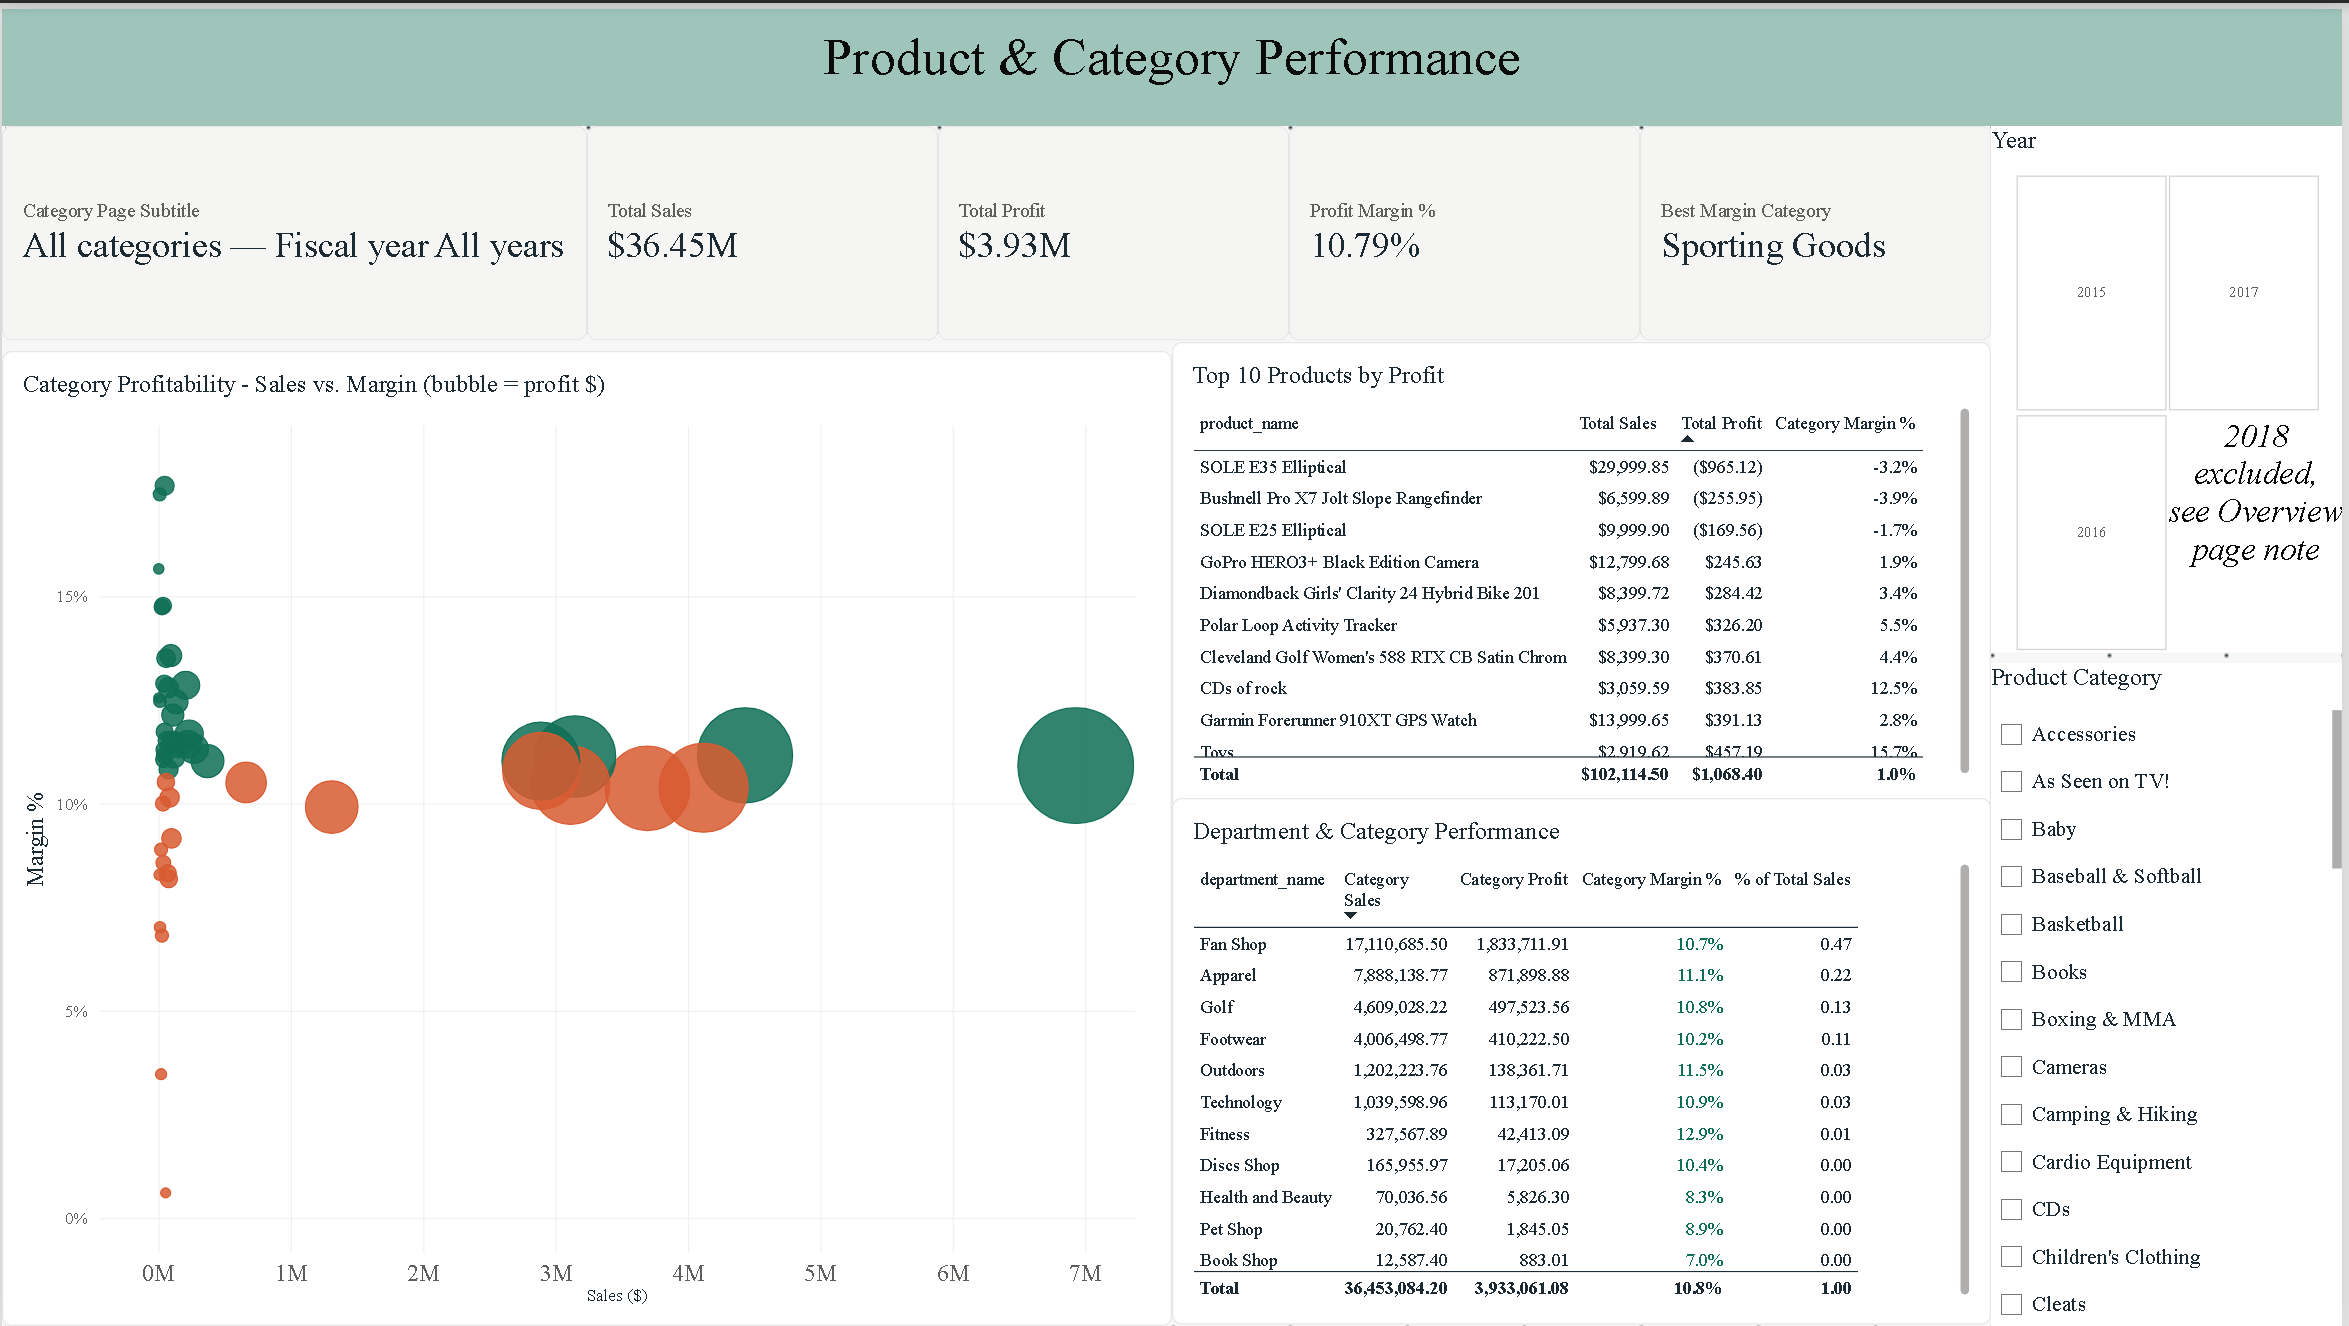

Layout of this report page (visuals, bound fields, positions):
{"tool":"powerbi","page":{"name":"Product & Category","canvas":[1920,1080],"ordinal":2},"visuals":[{"type":"textbox","box":[0,0,1920,96],"z":0},{"type":"cardVisual","fields":{"Data":["_Measures.Category Page Subtitle"]},"box":[0,96,480,176],"z":1},{"type":"cardVisual","fields":{"Data":["_Measures.Total Sales"]},"box":[480,96,288,176],"z":2},{"type":"cardVisual","fields":{"Data":["_Measures.Total Profit"]},"box":[768,96,288,176],"z":3},{"type":"cardVisual","fields":{"Data":["_Measures.Profit Margin %"]},"box":[1056,96,288,176],"z":4},{"type":"cardVisual","fields":{"Data":["_Measures.Best Margin Category"]},"box":[1344,96,288,176],"z":5},{"type":"scatterChart","title":"Category Profitability - Sales vs. Margin (bubble = profit $)","fields":{"Series":["gold dim_product.category_name"],"Size":["_Measures.Category Profit"],"X":["_Measures.Category Sales"],"Y":["_Measures.Category Margin %"]},"box":[0,280,960,800],"z":6},{"type":"tableEx","title":"Top 10 Products by Profit","fields":{"Values":["gold dim_product.product_name","_Measures.Total Sales","_Measures.Total Profit","_Measures.Category Margin %"]},"box":[960,272,672,384],"z":7},{"type":"tableEx","title":"Department & Category Performance","fields":{"Values":["gold dim_product.department_name","_Measures.Category Sales","_Measures.Category Profit","_Measures.Category Margin %","_Measures.% of Total Sales"]},"box":[960,648,672,432],"z":8},{"type":"slicer","title":"Year","fields":{"Values":["gold dim_date.year"]},"box":[1632,96,288,432],"z":9,"group":"g1"},{"type":"slicer","title":"Product Category","fields":{"Values":["gold dim_product.category_name"]},"box":[1632,536,288,544],"z":10},{"type":"textbox","box":[1776,320,144,224],"z":11,"group":"g1"},{"type":"group","id":"g1","title":"Group 1","box":[1632,96,288,448],"z":12}]}

Visuals, with their boxes in screenshot pixels (x1, y1, x2, y2), scaled from the page's 1920x1080 canvas onto the 2349x1326 screenshot:
textbox: {"x1": 0, "y1": 0, "x2": 2348, "y2": 118}
cardVisual - _Measures.Category Page Subtitle: {"x1": 0, "y1": 118, "x2": 587, "y2": 334}
cardVisual - _Measures.Total Sales: {"x1": 587, "y1": 118, "x2": 940, "y2": 334}
cardVisual - _Measures.Total Profit: {"x1": 940, "y1": 118, "x2": 1292, "y2": 334}
cardVisual - _Measures.Profit Margin %: {"x1": 1292, "y1": 118, "x2": 1644, "y2": 334}
cardVisual - _Measures.Best Margin Category: {"x1": 1644, "y1": 118, "x2": 1997, "y2": 334}
"Category Profitability - Sales vs. Margin (bubble = profit $)" scatterChart: {"x1": 0, "y1": 344, "x2": 1174, "y2": 1325}
"Top 10 Products by Profit" tableEx: {"x1": 1174, "y1": 334, "x2": 1997, "y2": 805}
"Department & Category Performance" tableEx: {"x1": 1174, "y1": 796, "x2": 1997, "y2": 1325}
"Year" slicer: {"x1": 1997, "y1": 118, "x2": 2348, "y2": 648}
"Product Category" slicer: {"x1": 1997, "y1": 658, "x2": 2348, "y2": 1325}
textbox: {"x1": 2173, "y1": 393, "x2": 2348, "y2": 668}
"Group 1" group: {"x1": 1997, "y1": 118, "x2": 2348, "y2": 668}
